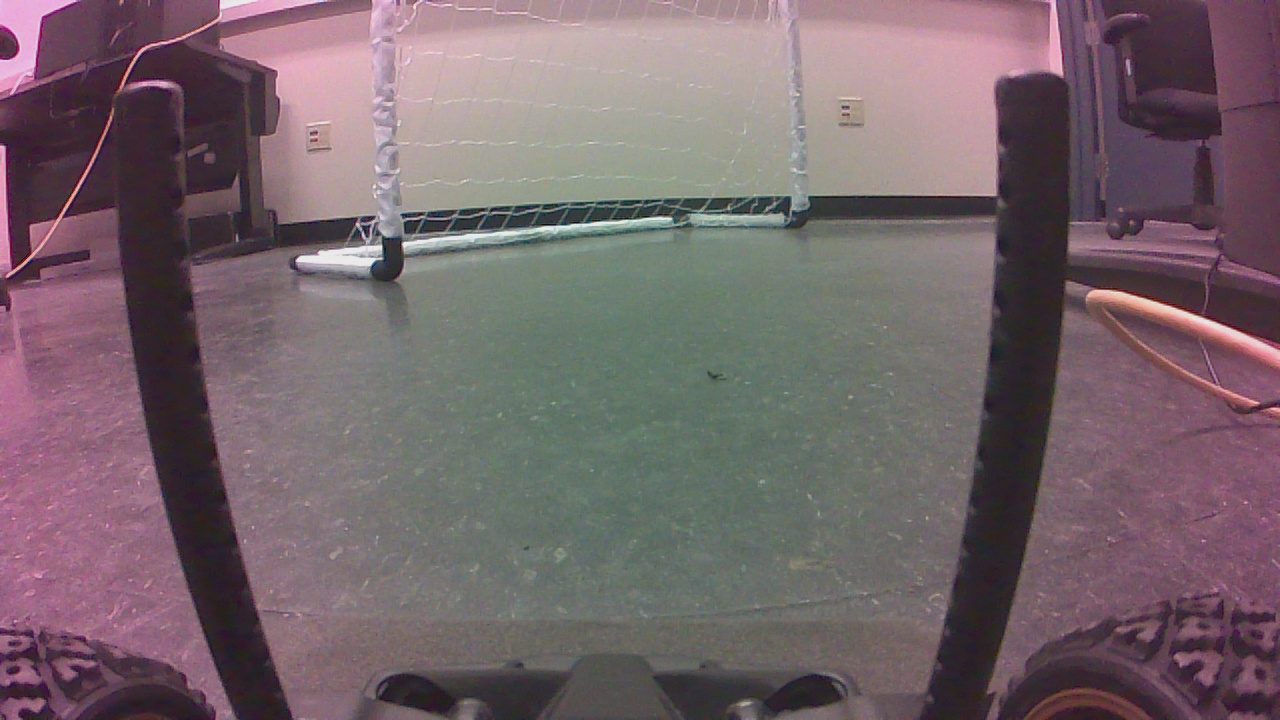goal: (292, 7, 819, 288)
